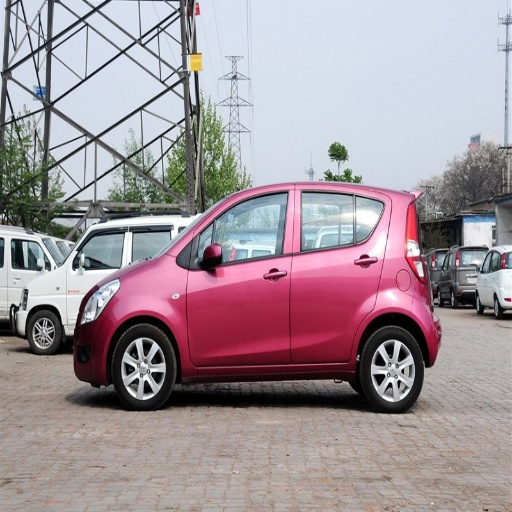back_left_door: (291, 187, 386, 361)
front_left_door: (187, 187, 295, 365)
